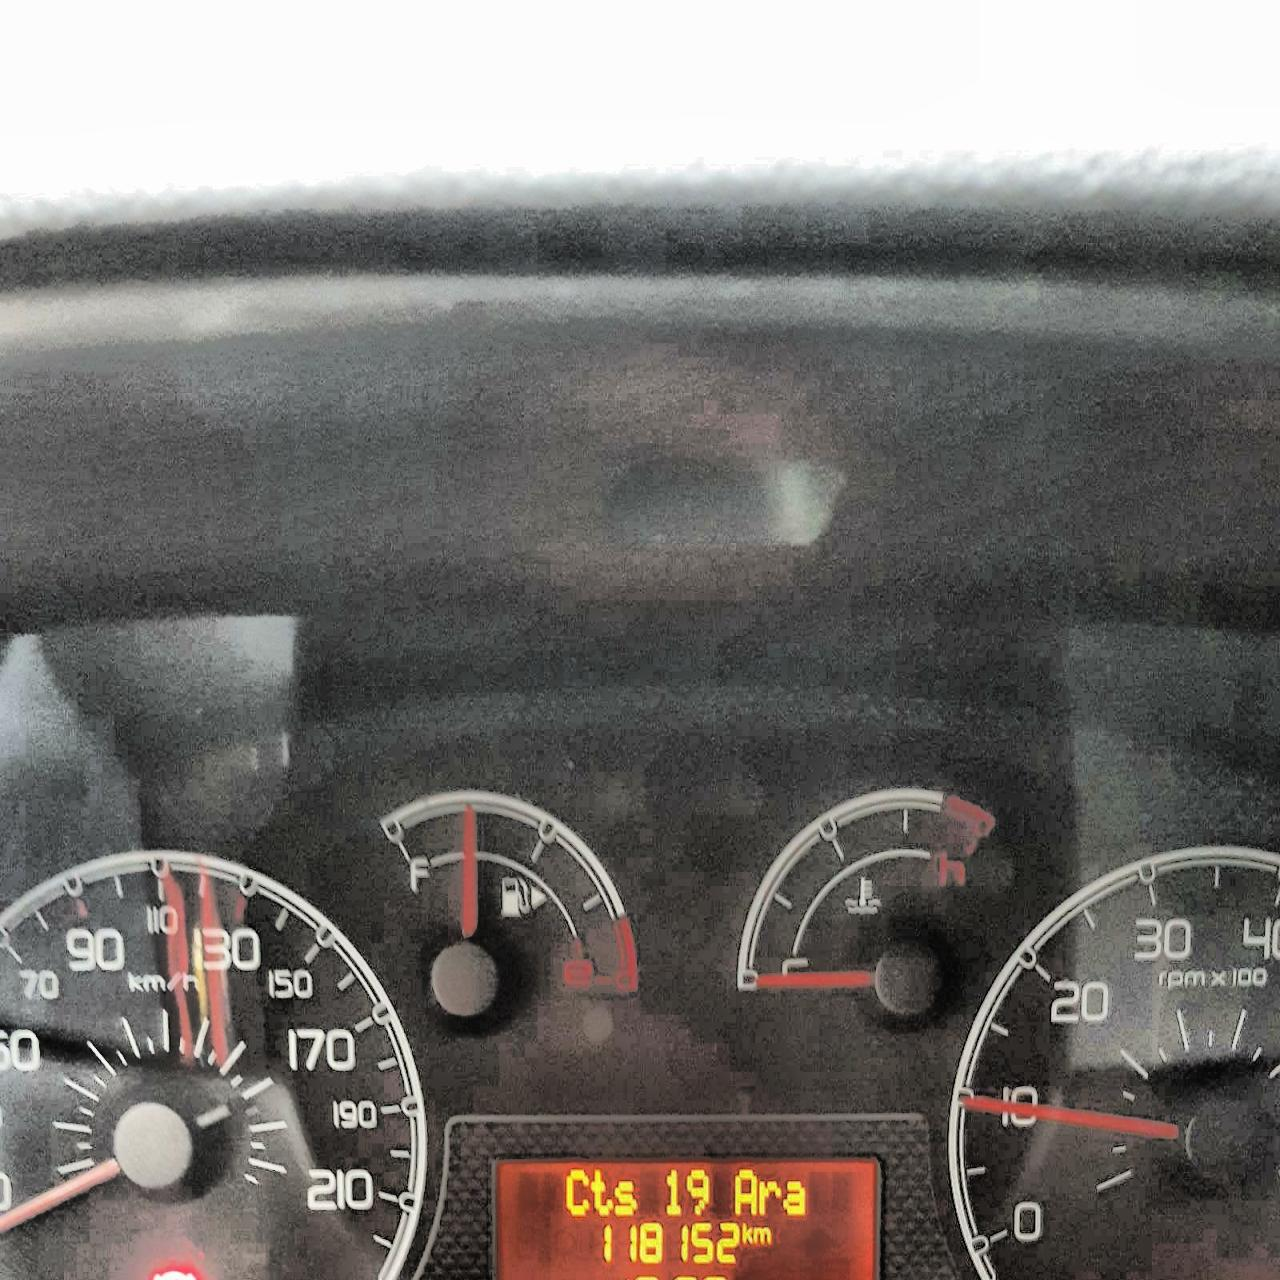1: (665, 1166, 682, 1218), (600, 1221, 613, 1262), (627, 1220, 638, 1265), (679, 1219, 689, 1264)
2: (717, 1219, 740, 1265)
5: (692, 1219, 715, 1264)
8: (639, 1220, 663, 1265)
9: (685, 1165, 710, 1216)
X: (565, 1166, 590, 1218), (733, 1165, 757, 1216), (590, 1167, 612, 1219), (613, 1177, 639, 1217), (782, 1177, 806, 1216), (758, 1176, 779, 1214), (754, 1225, 772, 1245), (741, 1219, 753, 1246)
odometer: (486, 1145, 883, 1279)
